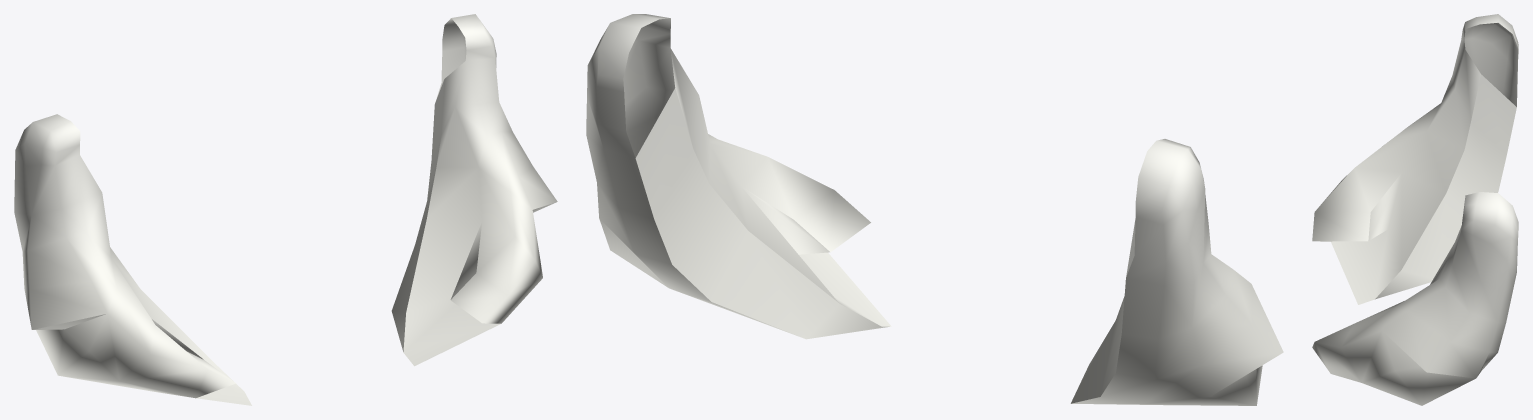
Rendered from Beard_White_9.fbx.
3 views of the same model, side by side, from view 1: azimuth 30°, elevation 25°; view 2: azimuth 150°, elevation 25°; view 3: azimuth 270°, elevation 25° (orthographic). The views are drawn at different scales.
Visible parts, largest first — view 1: Beard_White_9; view 2: Beard_White_9; view 3: Beard_White_9.
Boxes of the visible parts, <box> form: Beard_White_9: <box>14,14,557,405</box>; Beard_White_9: <box>586,14,1283,405</box>; Beard_White_9: <box>1312,14,1518,405</box>.
Size of the model in its own units: 58.92 by 28.07 by 22.62.
